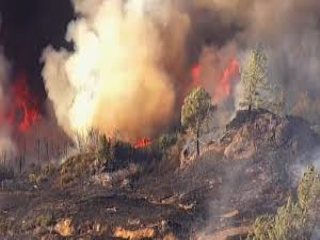fire: (1, 95, 45, 141), (190, 64, 240, 101)
smoke: (46, 13, 186, 147)
